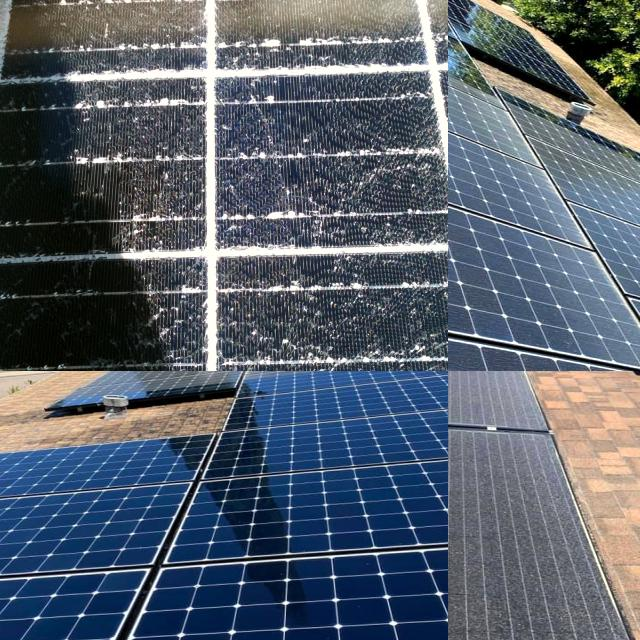crack: (181, 465, 448, 608), (98, 540, 448, 640), (0, 477, 232, 589), (183, 392, 448, 485), (0, 437, 244, 505), (0, 564, 191, 640), (202, 371, 448, 425)
dust: (480, 98, 625, 252), (448, 183, 556, 310), (451, 456, 561, 572), (514, 262, 640, 348), (448, 570, 593, 640), (448, 17, 545, 120), (448, 479, 524, 558), (448, 569, 521, 640), (485, 371, 640, 397), (459, 371, 517, 417), (448, 425, 494, 470), (448, 371, 481, 402), (448, 371, 497, 386), (448, 371, 476, 397)
